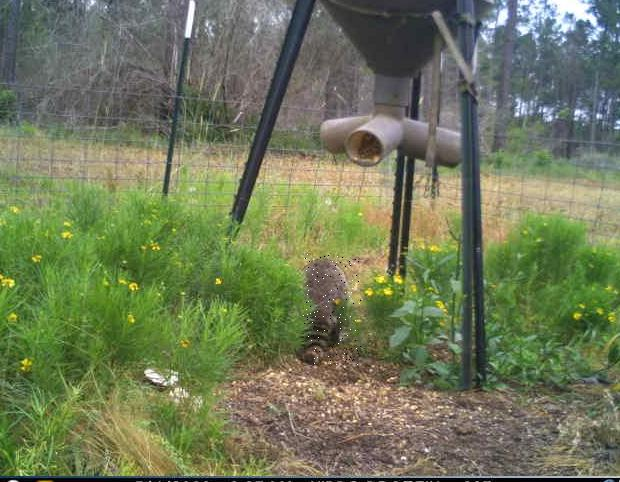Raccoon: (303, 254, 361, 365)
